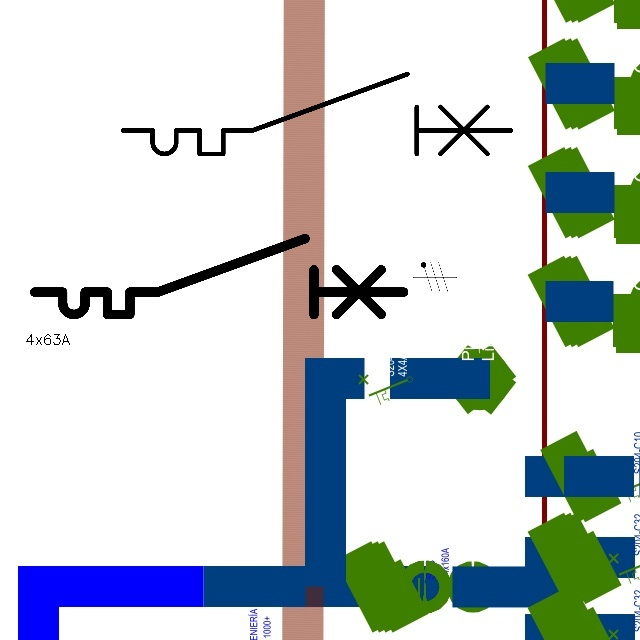interruptor_termomagnetico: (113, 64, 521, 164), (25, 229, 413, 324)
